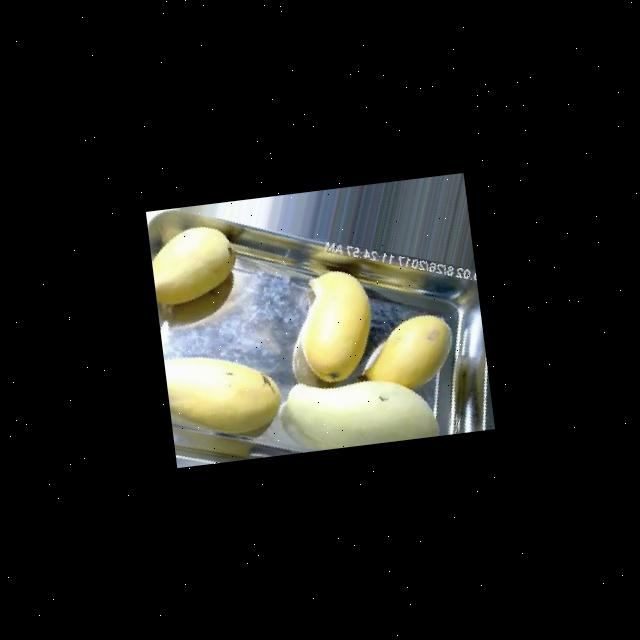Mango: (278, 366, 438, 453), (163, 343, 285, 442), (292, 266, 378, 385), (354, 310, 458, 394), (147, 221, 240, 306)
